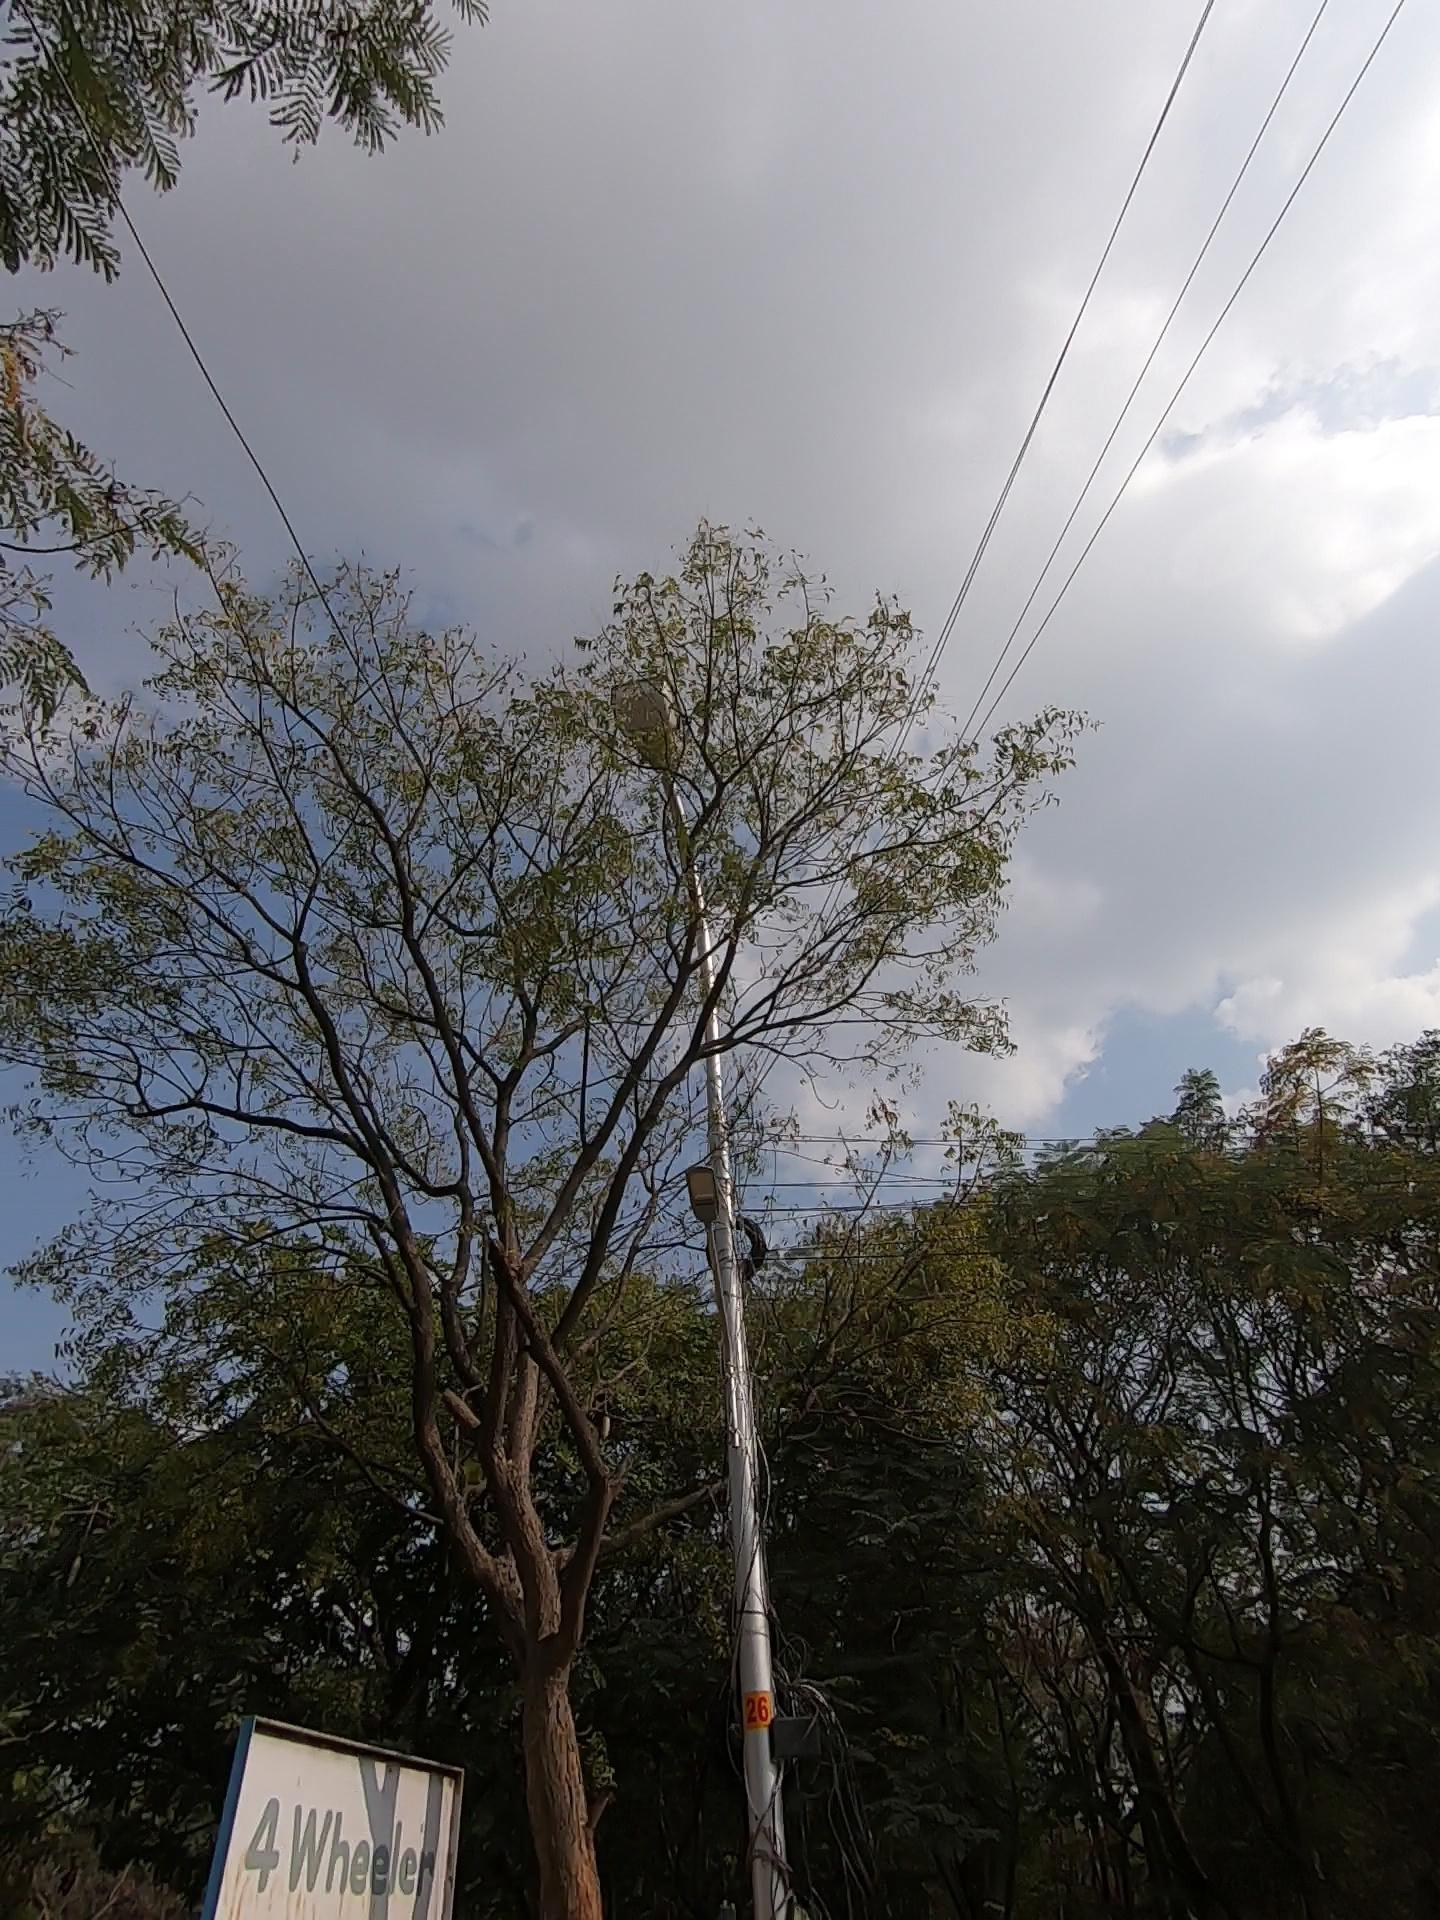off: (555, 641, 859, 1079)
